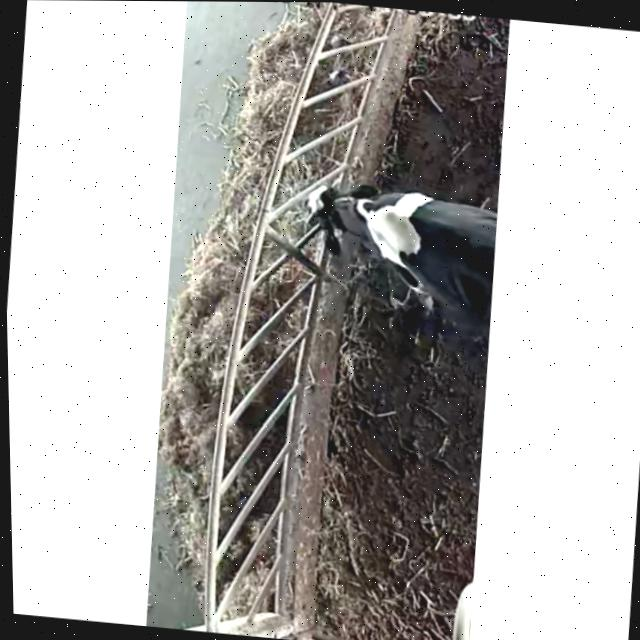eat: (228, 153, 417, 273)
